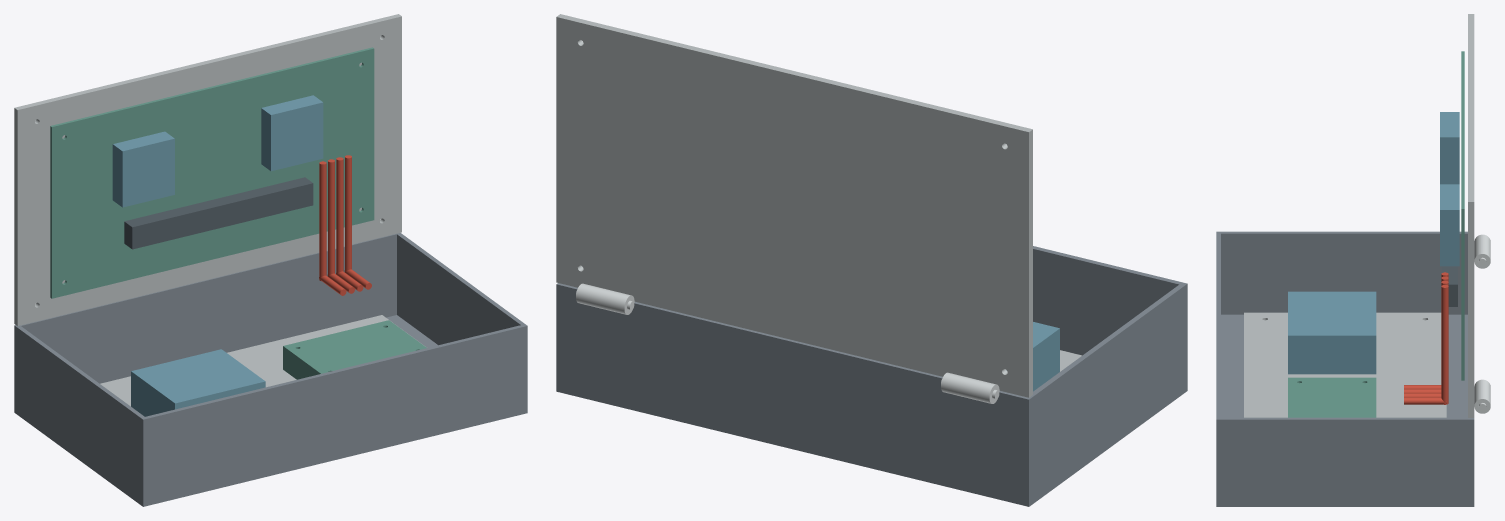
Rendered from assembly.glb.
3 views of the same model, side by side, from view 1: azimuth 30°, elevation 25°; view 2: azimuth 150°, elevation 25°; view 3: azimuth 270°, elevation 25° (orthographic). The views are drawn at different scales.
Visible parts, largest first — view 1: MI-001:1, MI-004:1, MI-002:1, MI-005:1, MI-009:1, MI-008:1, MI-010:1, MI-006:2, MI-006:1, MI-007:1; view 2: MI-002:1, MI-001:1, MI-009:1, MI-003:1, MI-003:2; view 3: MI-001:1, MI-007:1, MI-009:1, MI-008:1, MI-002:1, MI-010:1, MI-006:2, MI-006:1, MI-004:1, MI-003:1, MI-003:2, MI-005:1.
Part boxes in pixels (x1,y1,x2,y2): MI-001:1: (14,233,527,506); MI-004:1: (50,47,374,298); MI-002:1: (14,14,401,325); MI-005:1: (124,177,313,249); MI-009:1: (131,349,265,416); MI-008:1: (283,320,426,379); MI-010:1: (319,155,371,295); MI-006:2: (261,95,323,171); MI-006:1: (112,131,174,207); MI-007:1: (100,315,425,406); MI-002:1: (556,14,1032,397); MI-001:1: (556,246,1187,506); MI-009:1: (1006,322,1059,391); MI-003:1: (941,372,999,403); MI-003:2: (576,283,634,314); MI-001:1: (1216,231,1474,506); MI-007:1: (1244,312,1446,417); MI-009:1: (1288,291,1376,374); MI-008:1: (1288,377,1376,417); MI-002:1: (1468,14,1474,417); MI-010:1: (1404,272,1448,404); MI-006:2: (1440,184,1459,266); MI-006:1: (1440,112,1459,184); MI-004:1: (1461,51,1464,380); MI-003:1: (1474,234,1490,268); MI-003:2: (1474,379,1490,413); MI-005:1: (1441,266,1457,306).
Size of the model in its own units: 0.272 by 0.206 by 0.168.
